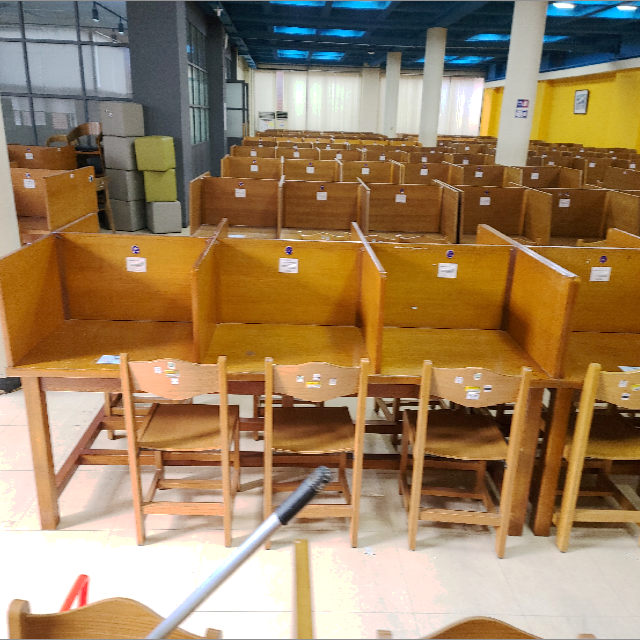empty: (1, 239, 196, 444), (390, 244, 569, 450), (204, 240, 384, 443)
